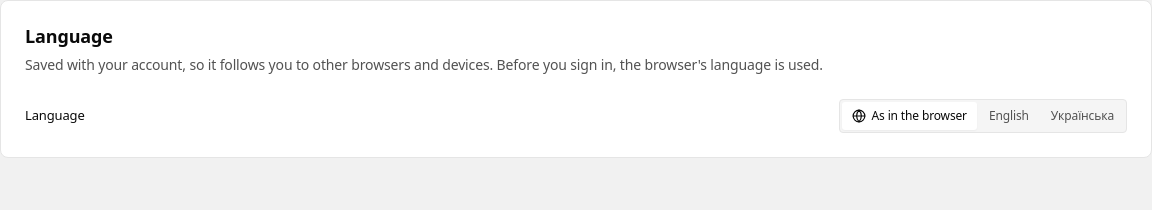
Test: LanguageCard › saves a choice at once, with no Save button, and runs the app in it
Click the radio button labelled "Українська" at (1082, 115), box x1=1051 y1=106 x2=1114 y2=124
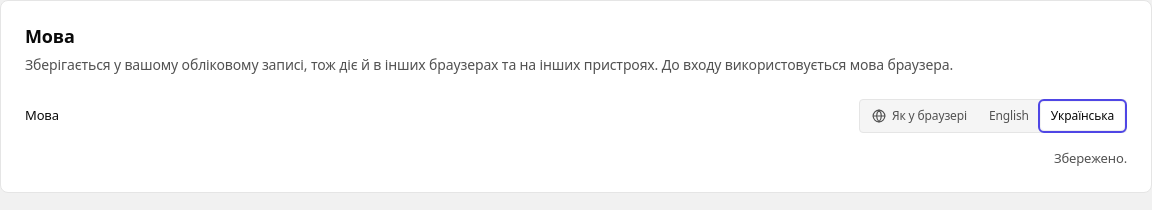
Expected: the radio button labelled "Українська" is checked, x1=1041 y1=102 x2=1124 y2=130
